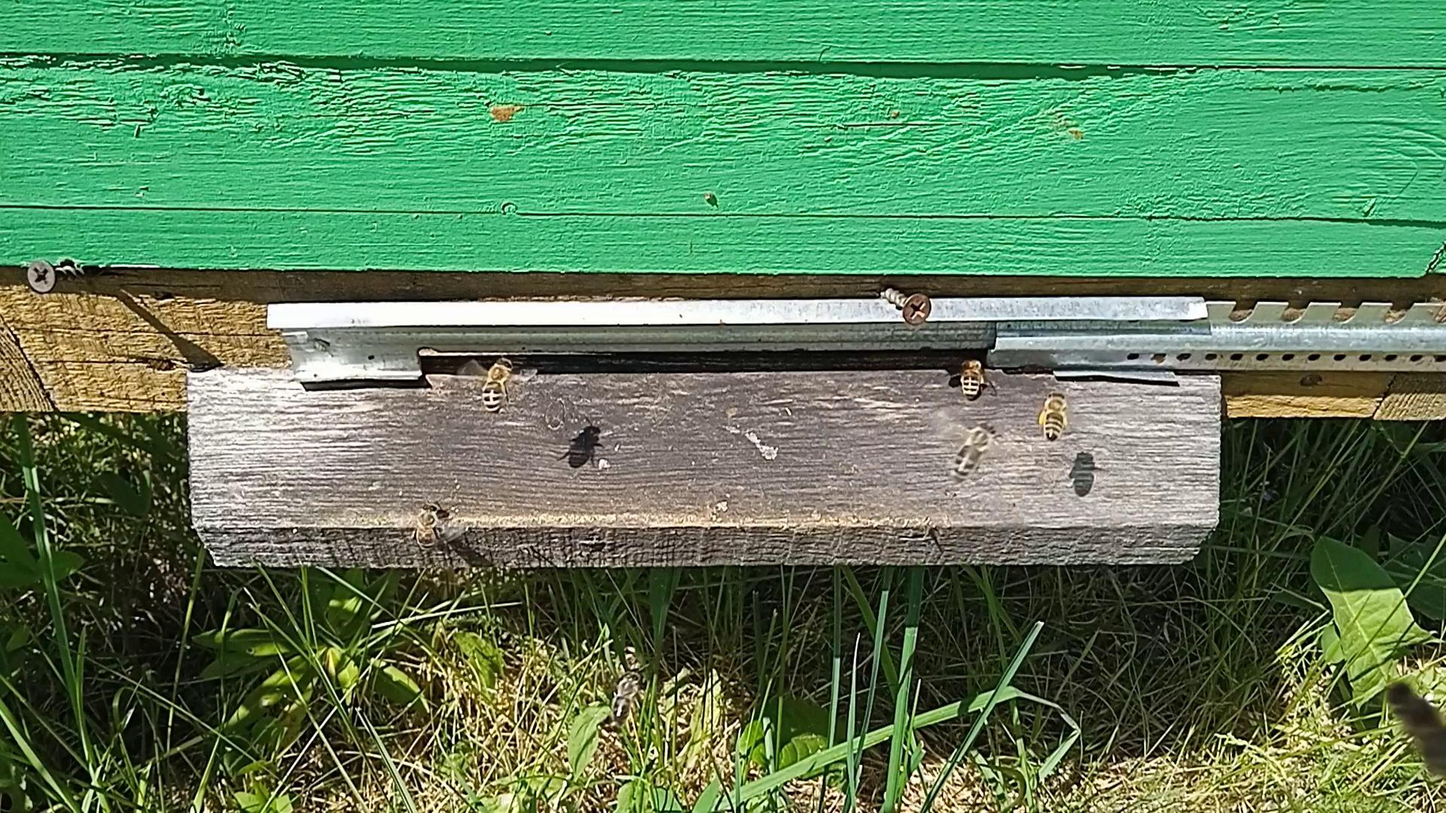worker-bee: (1384, 681, 1446, 786), (951, 420, 997, 481), (479, 356, 517, 416), (611, 671, 643, 727), (1038, 390, 1071, 442), (955, 354, 990, 401), (413, 502, 441, 550)
